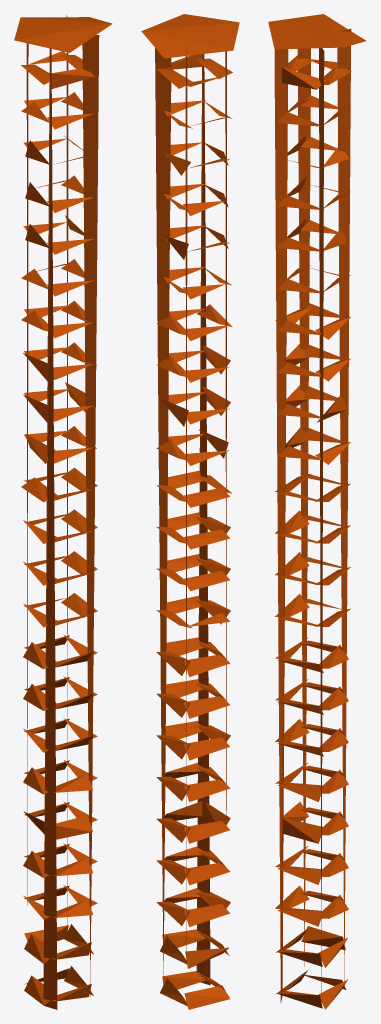
File: crane1.obj
3 views of the same model, side by side, from view 1: azimuth 30°, elevation 25°; view 2: azimuth 210°, elevation 25°; view 3: azimuth 330°, elevation 25° (orthographic).
Parts seen in each view (by area): view 1: Crane_Cylinder; view 2: Crane_Cylinder; view 3: Crane_Cylinder.
Boxes of the visible parts, bbox=[...] form: Crane_Cylinder: bbox=[14, 15, 112, 1009]; Crane_Cylinder: bbox=[141, 14, 239, 1009]; Crane_Cylinder: bbox=[268, 14, 366, 1009].
Bounding box in the file's own units: 13.11 × 139 × 12.85.
